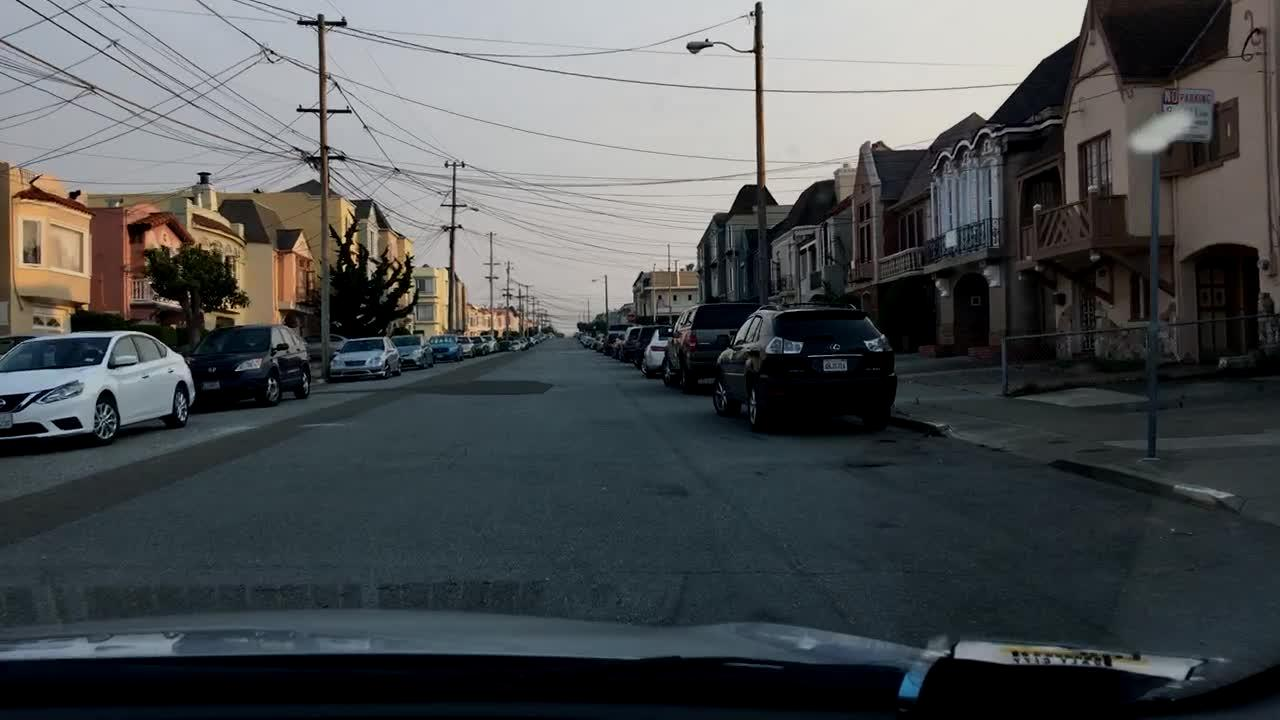Honda: (205, 363, 219, 378)
lexus: (827, 342, 843, 353)
